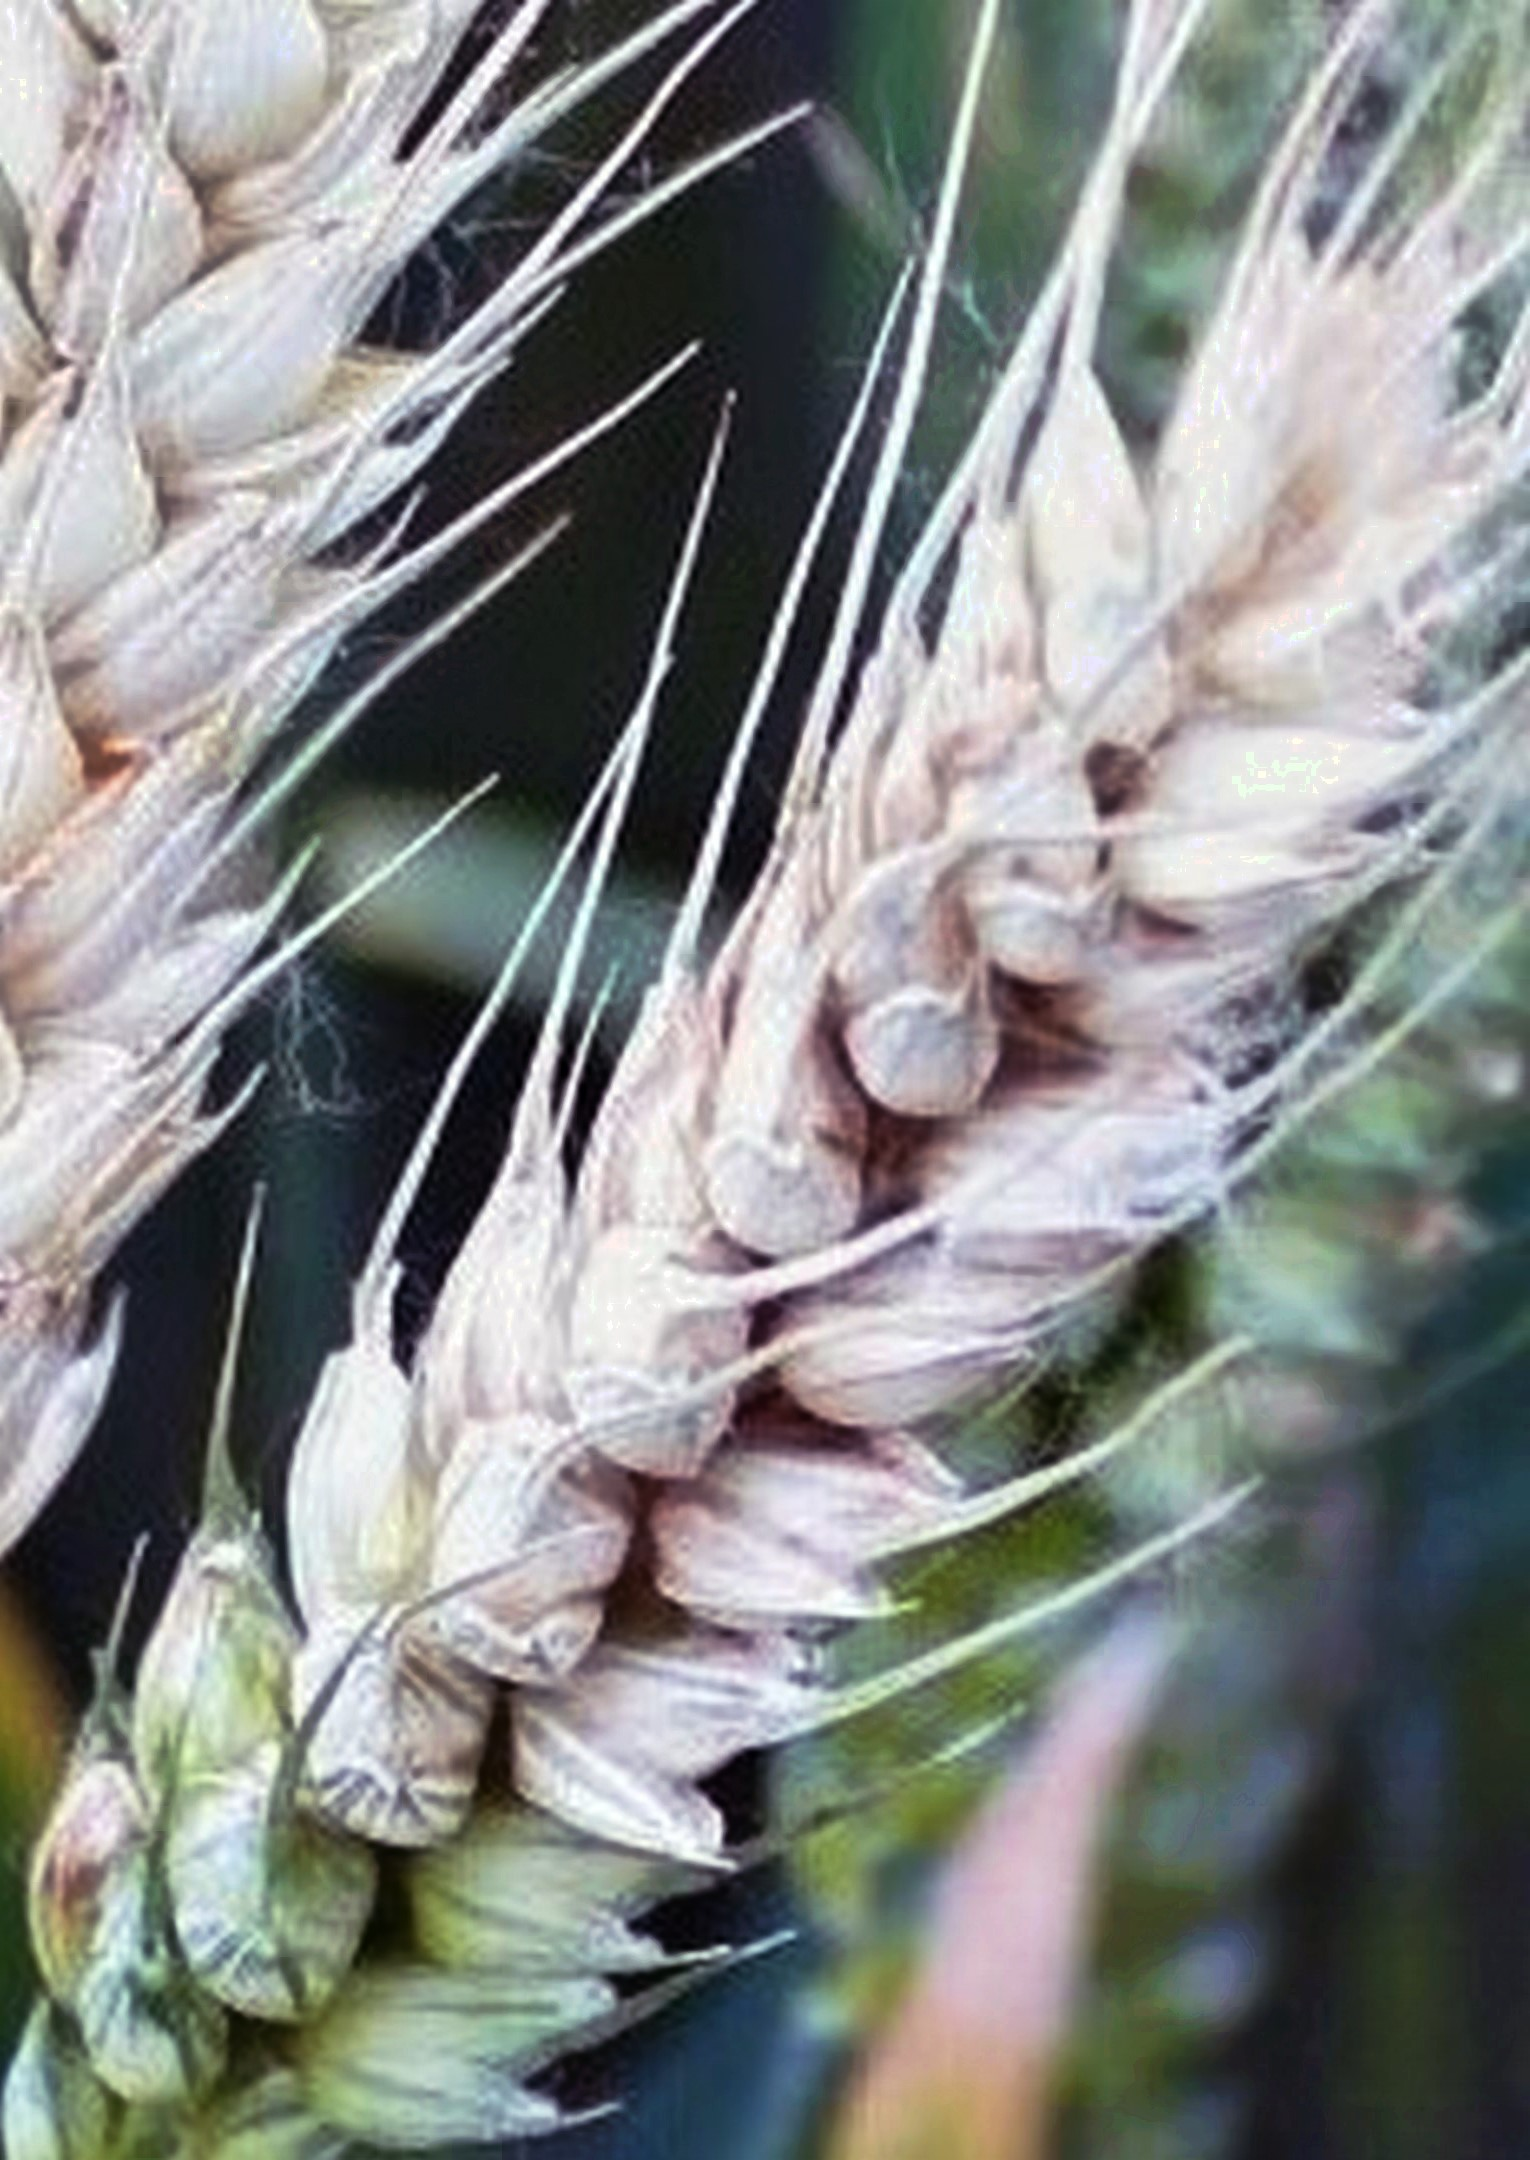Wheat scab: (123, 333, 1530, 2104)
